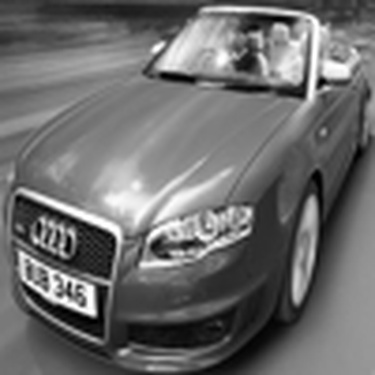car: (10, 1, 357, 357)
